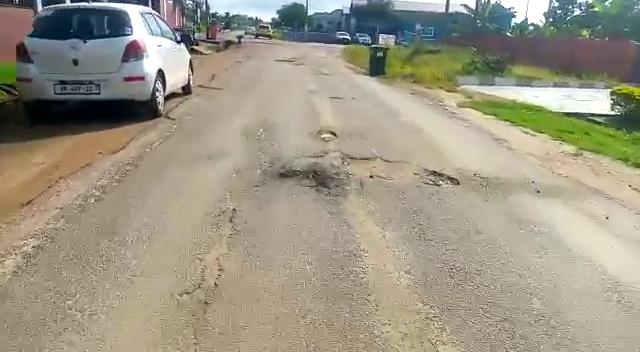pothole: (330, 149, 468, 187), (278, 164, 344, 194), (314, 129, 342, 142)
